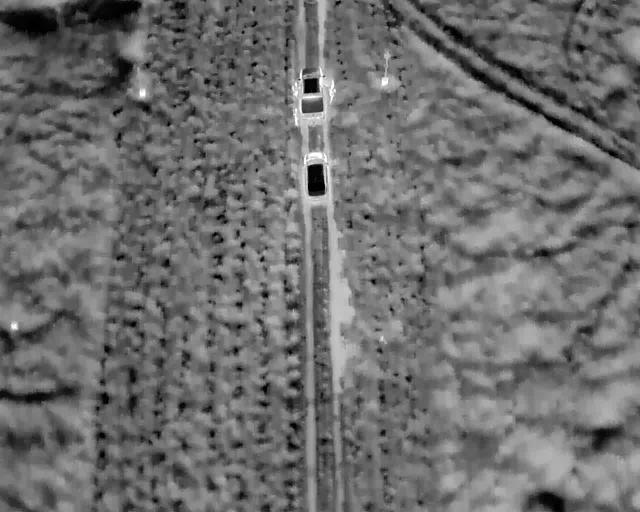car: (297, 65, 326, 119), (302, 150, 329, 198)
person: (326, 79, 337, 104), (289, 107, 301, 127), (289, 79, 301, 99)
